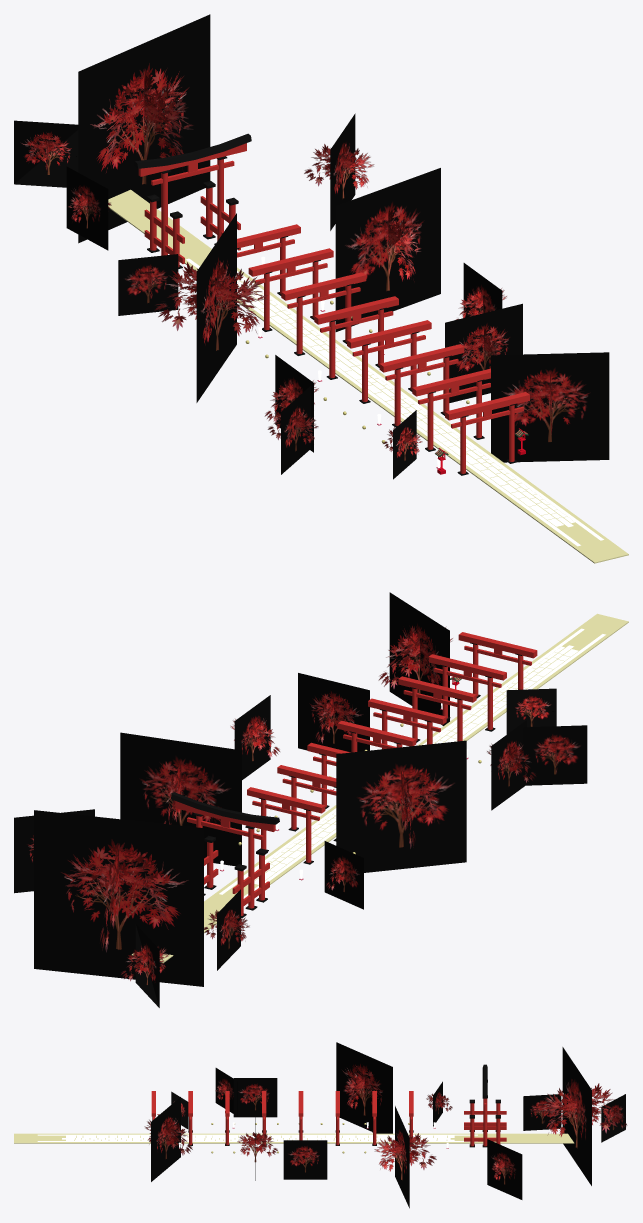
The model's file is 神社と鳥居と紅葉改造２.1.glb.
The picture shows the model from 3 angles, top to bottom: view 1: azimuth 30°, elevation 25°; view 2: azimuth 150°, elevation 25°; view 3: azimuth 270°, elevation 25°; orthographic projection. The views are drawn at different scales.
Parts seen in each view (by area): view 1: Cube; view 2: Cube; view 3: Cube.
Part boxes in pixels (x1,y1,x2,y2): Cube: (14, 14, 628, 563); Cube: (14, 592, 628, 1007); Cube: (14, 1042, 627, 1208).
Bounding box in the file's own units: 34.69 × 16.97 × 94.63.
12 materials, 2 textured.
